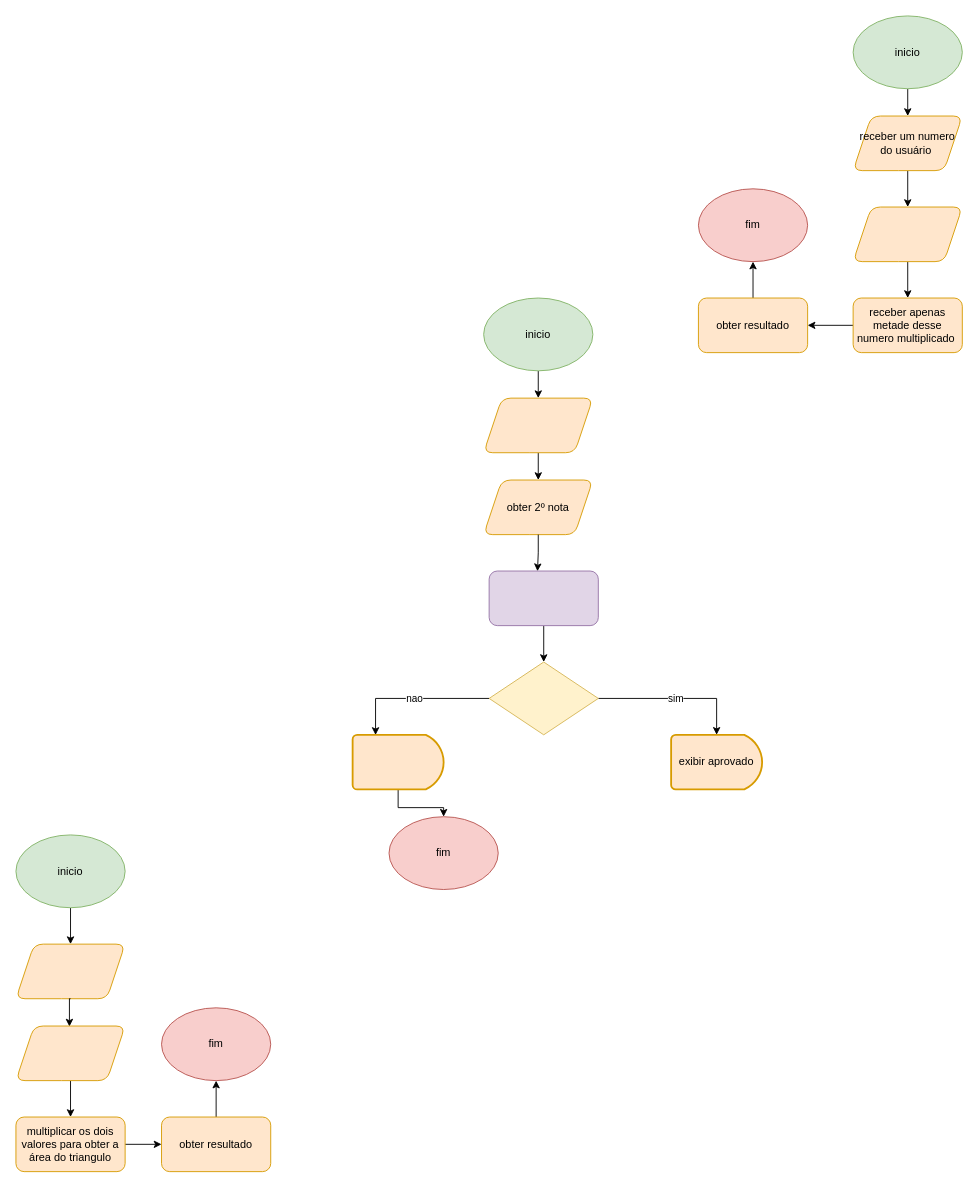
The diagram is 978 pixels wide and 1188 high, and some of its shapes have lost their labels. The centre of each missing label's shape, as x and y in pixels:
"calcular a media" belongs at (543,598).
"exibir reprovado" belongs at (397,761).
"media é acima de 7 ?" belongs at (543,698).
"multiplicar o numero recebido" belongs at (907,234).
"obter 1º nota" belongs at (538,425).
"receber a altura do triangulo" belongs at (70,1053).
"receber a base do triangulo" belongs at (70,971).
